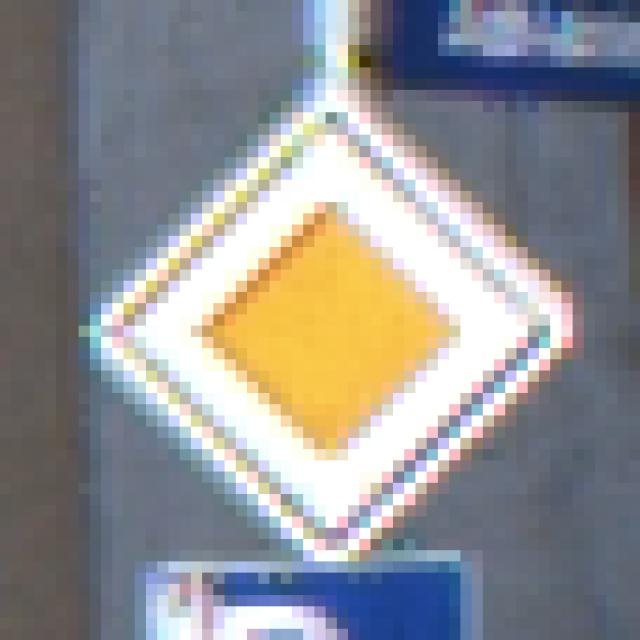Main Road: (68, 68, 585, 585)
